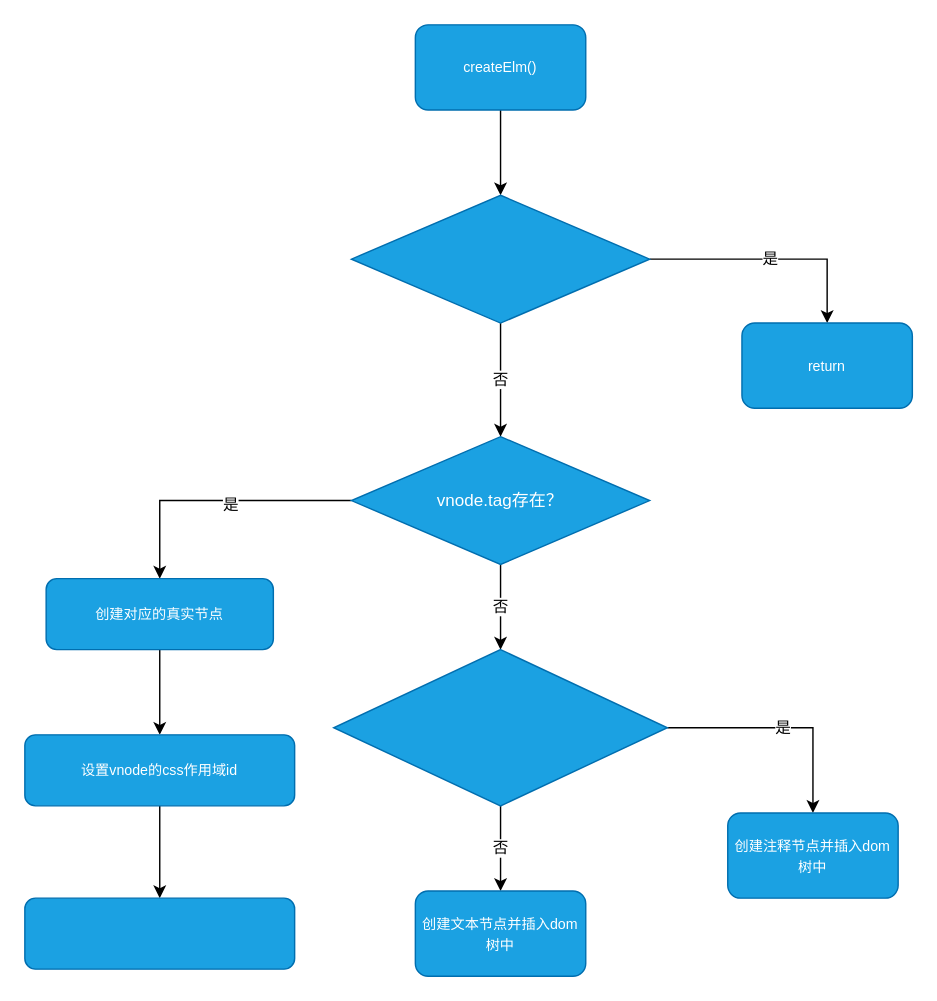
This 937x1001 diagram has some shape labels left out. The centre of each missing label's shape, as x and y in pixels:
"创建的是组件？" goes at [500,258].
"根据平台递归创建子节点并插入dom树中" goes at [159,933].
"注释节点vnode.isComment?" goes at [499,727].
